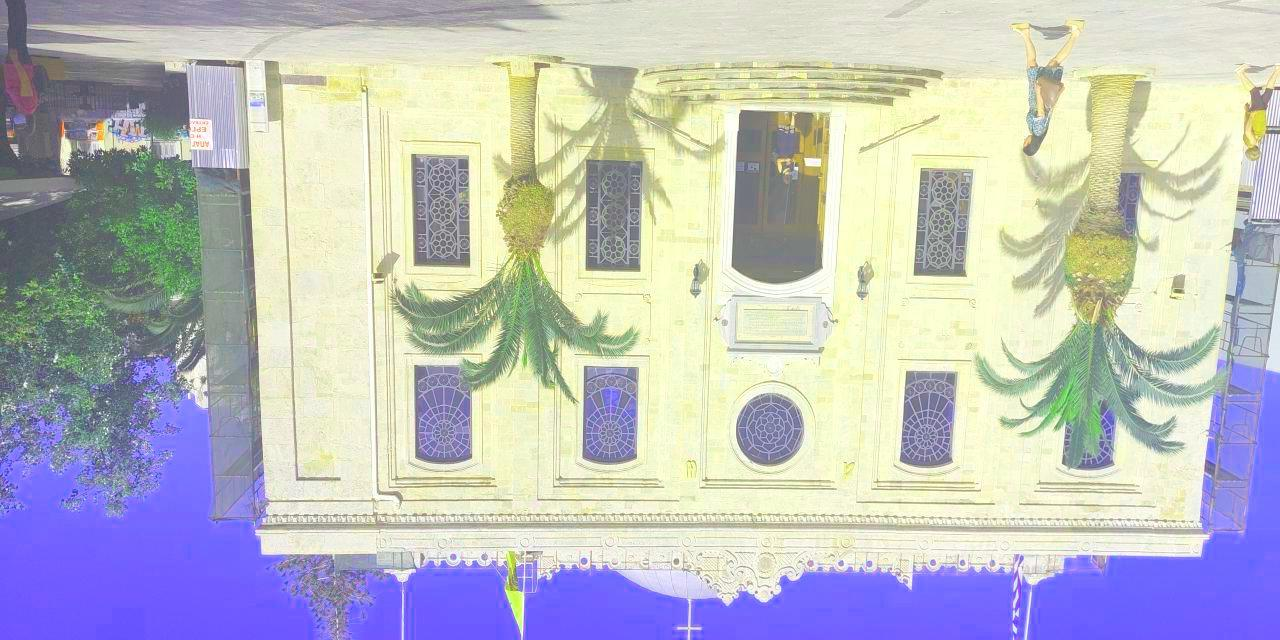Agios Titos: (258, 60, 1221, 636)
